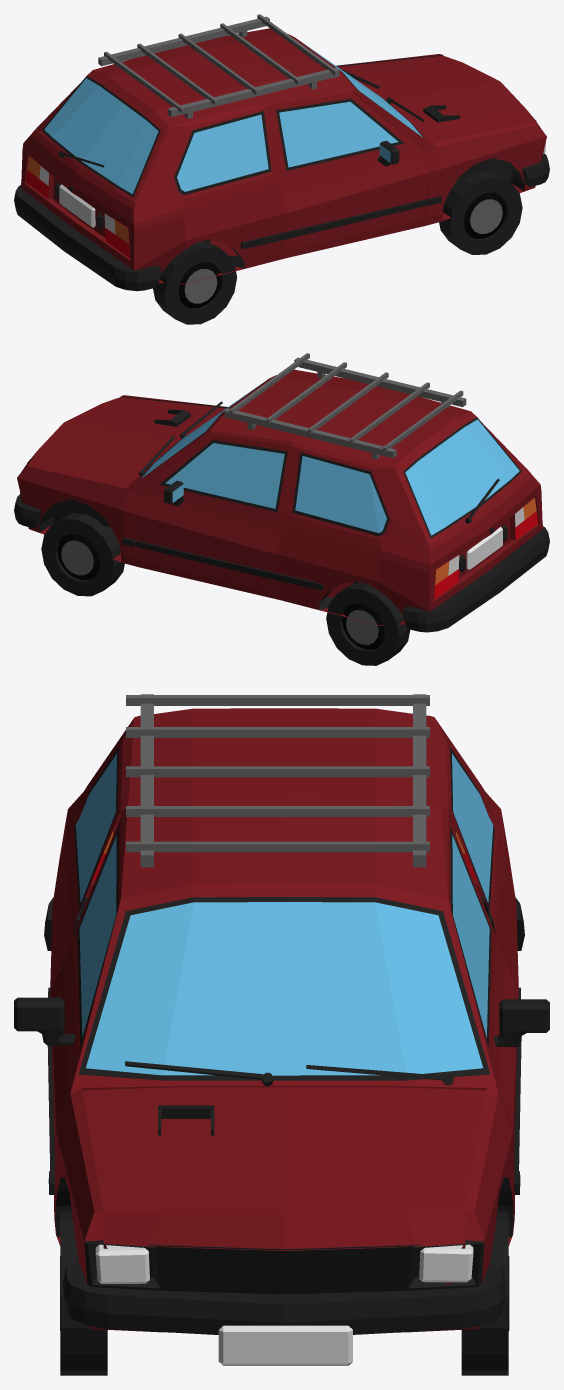
The model's file is Yugo.fbx.
3 views of the same model, one above another, from view 1: azimuth 30°, elevation 25°; view 2: azimuth 150°, elevation 25°; view 3: azimuth 270°, elevation 25° (orthographic). The views are drawn at different scales.
Parts seen in each view (by area): view 1: Sasija, VrataR, Gepek, Hauba, Krov, Tocak3, Tocak4, Branik.001, Zadnja tablica, Branik, retrovizor2; view 2: Sasija, VrataL, Gepek, Hauba, Krov, Tocak2, Tocak1, Branik.001, Zadnja tablica, Branik, retrovizor1; view 3: Sasija, Hauba, Krov, Branik, VrataR, VrataL, Tablica, Tocak2, Tocak3, retrovizor2, retrovizor1, FalR (+5 smaller).
Boxes of the visible parts, x1,y1,x2,y2 form: Sasija: [20, 28, 546, 284]; VrataR: [272, 92, 430, 254]; Gepek: [27, 73, 164, 221]; Hauba: [337, 55, 542, 141]; Krov: [98, 14, 339, 118]; Tocak3: [439, 171, 522, 254]; Tocak4: [153, 240, 237, 324]; Branik.001: [14, 185, 161, 291]; Zadnja tablica: [59, 184, 95, 227]; Branik: [522, 153, 549, 186]; retrovizor2: [377, 140, 399, 166]; Sasija: [17, 369, 543, 625]; VrataL: [133, 434, 291, 595]; Gepek: [399, 414, 536, 562]; Hauba: [21, 397, 226, 483]; Krov: [224, 353, 466, 459]; Tocak2: [41, 513, 124, 596]; Tocak1: [326, 582, 410, 665]; Branik.001: [402, 526, 549, 632]; Zadnja tablica: [466, 527, 502, 570]; Branik: [14, 494, 41, 528]; retrovizor1: [164, 480, 184, 506]; Sasija: [48, 708, 520, 1332]; Hauba: [82, 1087, 486, 1250]; Krov: [126, 694, 429, 867]; Branik: [63, 1265, 505, 1334]; VrataR: [47, 817, 120, 1171]; VrataL: [448, 817, 521, 1171]; Tablica: [218, 1325, 352, 1365]; Tocak2: [461, 1211, 509, 1375]; Tocak3: [60, 1211, 107, 1375]; retrovizor2: [14, 997, 75, 1045]; retrovizor1: [494, 999, 549, 1046]; FalR: [95, 1244, 149, 1283].
Bounding box in the file's own units: 350 × 150 × 183.
